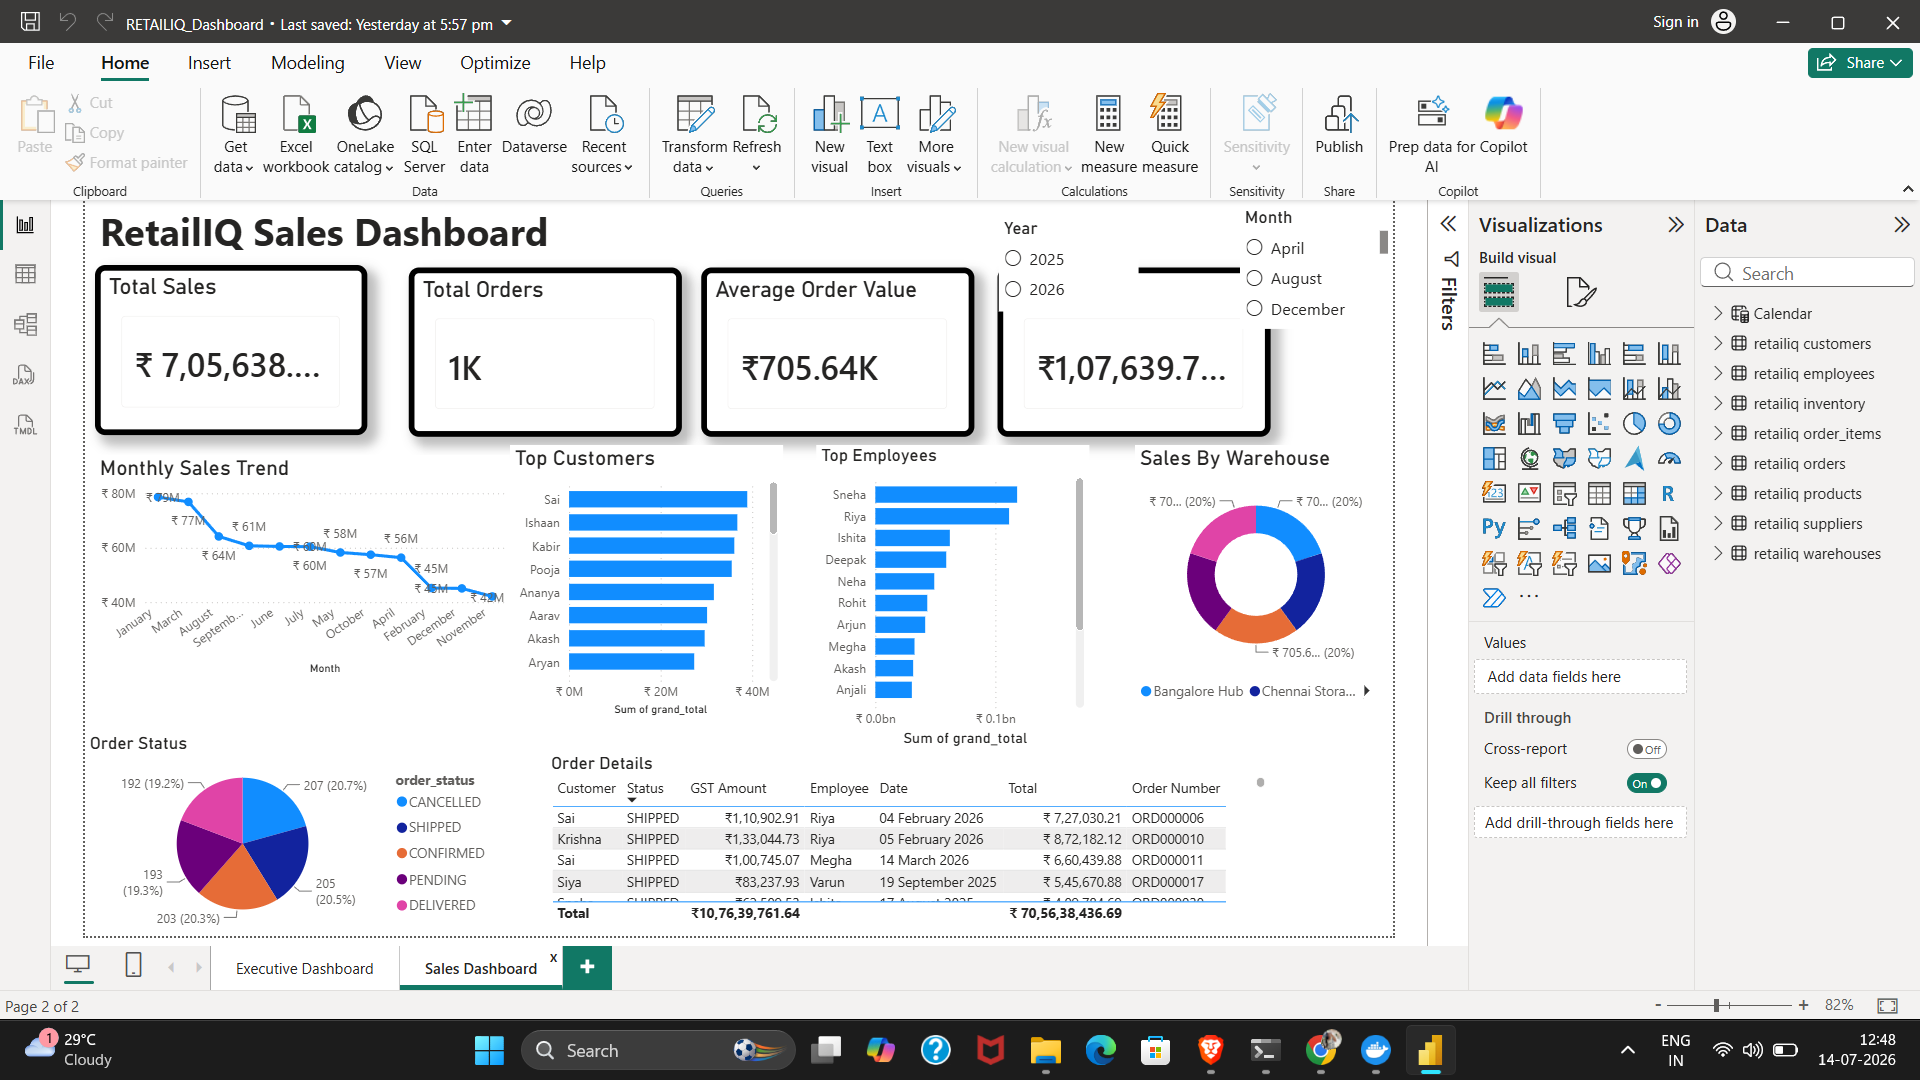

The page's visual inventory and layout, read from the dashboard file:
{"tool":"powerbi","page":{"name":"Sales Dashboard","canvas":[1280,720],"ordinal":1},"visuals":[{"type":"textbox","box":[10,0,1270,77.1],"z":0},{"type":"cardVisual","title":"Total Sales","fields":{"Data":["Sum(retailiq orders.grand_total)"]},"box":[10,63.3,266.7,166.7],"z":1000},{"type":"cardVisual","title":"Total Orders","fields":{"Data":["CountNonNull(retailiq orders.order_id)"]},"box":[317.1,65.7,267.1,165.7],"z":2000},{"type":"cardVisual","title":"Average Order Value","fields":{"Data":["retailiq orders.Average Order Value"]},"box":[602.9,65.7,267.1,165.7],"z":3000},{"type":"cardVisual","title":"Total GST","fields":{"Data":["Sum(retailiq orders.gst_amount)"]},"box":[892.9,65.7,267.1,165.7],"z":4000},{"type":"lineChart","title":"Monthly Sales Trend","fields":{"Category":["Calendar.Month"],"Y":["Sum(retailiq orders.grand_total)"]},"box":[10,250,405.7,220],"z":5000},{"type":"clusteredBarChart","title":"Top Customers","fields":{"Category":["retailiq customers.first_name"],"Y":["Sum(retailiq orders.grand_total)"]},"box":[415.7,240,267.1,270],"z":6000},{"type":"clusteredBarChart","title":"Top Employees","fields":{"Category":["retailiq employees.first_name"],"Y":["Sum(retailiq orders.grand_total)"]},"box":[715.7,240,267.1,300],"z":7000},{"type":"donutChart","title":"Sales By Warehouse","fields":{"Category":["retailiq warehouses.warehouse_name"],"Y":["Sum(retailiq orders.grand_total)"]},"box":[1027.1,240,237.1,260],"z":8000},{"type":"pieChart","title":"Order Status","fields":{"Category":["retailiq orders.order_status"],"Y":["CountNonNull(retailiq orders.order_id)"]},"box":[0,521.4,405.7,198.6],"z":9000},{"type":"tableEx","title":"Order Details","fields":{"Values":["retailiq customers.first_name","retailiq orders.order_status","Sum(retailiq orders.gst_amount)","retailiq employees.first_name","retailiq orders.Order Date","Sum(retailiq orders.grand_total)","retailiq orders.order_number"]},"box":[451.4,540,708.6,171.4],"z":10000},{"type":"listSlicer","fields":{"Values":["Calendar.Month"]},"box":[1130,5.7,150,120],"z":11000},{"type":"listSlicer","fields":{"Values":["Calendar.Year"]},"box":[893.3,16.7,136.7,91.7],"z":12000}]}

Visuals, with their boxes on the page's 1280x720 design canvas (x1, y1, x2, y2). These are canvas units, not pixel positions in the 1920x1080 screenshot, which may show the page scaled, cropped or inside an application window:
textbox: (10, 0, 1280, 77)
"Total Sales" cardVisual: (10, 63, 277, 230)
"Total Orders" cardVisual: (317, 66, 584, 231)
"Average Order Value" cardVisual: (603, 66, 870, 231)
"Total GST" cardVisual: (893, 66, 1160, 231)
"Monthly Sales Trend" lineChart: (10, 250, 416, 470)
"Top Customers" clusteredBarChart: (416, 240, 683, 510)
"Top Employees" clusteredBarChart: (716, 240, 983, 540)
"Sales By Warehouse" donutChart: (1027, 240, 1264, 500)
"Order Status" pieChart: (0, 521, 406, 720)
"Order Details" tableEx: (451, 540, 1160, 711)
listSlicer - Calendar.Month: (1130, 6, 1280, 126)
listSlicer - Calendar.Year: (893, 17, 1030, 108)
